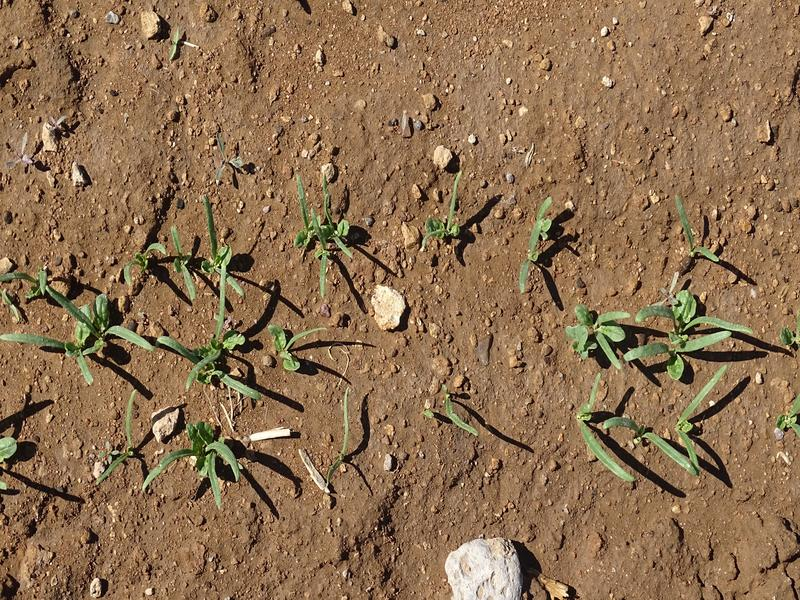Espinaca: (21, 230, 311, 402), (556, 279, 750, 487), (155, 408, 244, 492), (290, 172, 351, 284), (411, 172, 472, 248), (97, 391, 143, 482), (514, 197, 557, 294), (674, 192, 725, 270)
